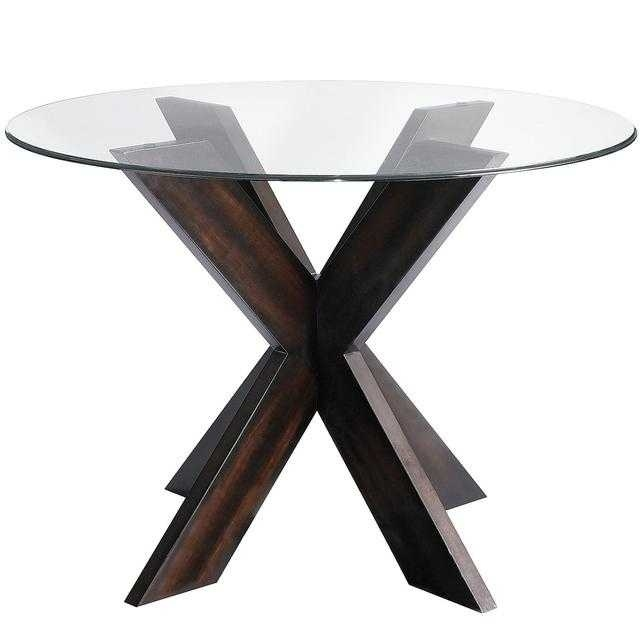obstacle: (6, 81, 636, 611)
